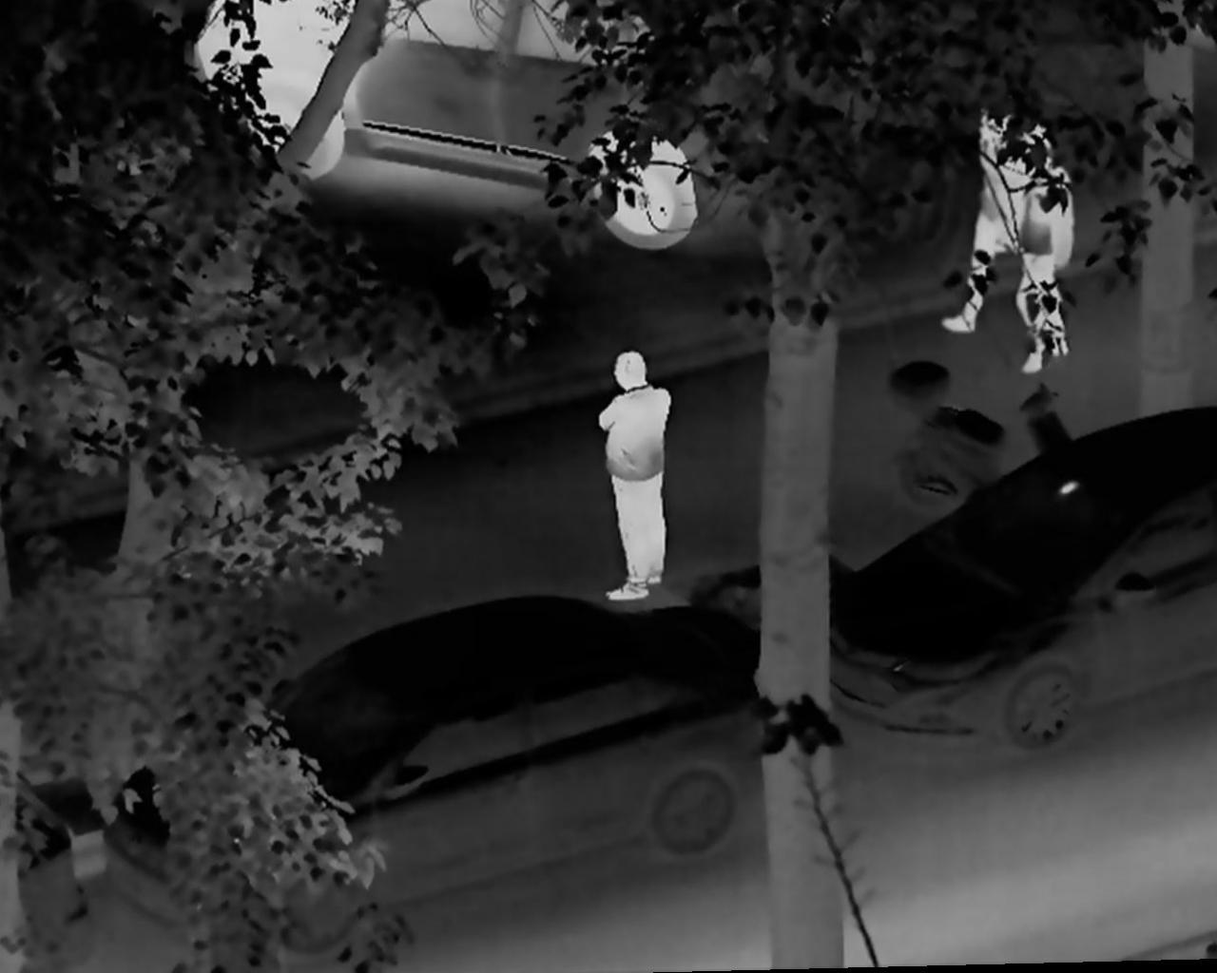person: (942, 86, 1059, 340), (587, 352, 676, 606), (1015, 148, 1078, 380)
